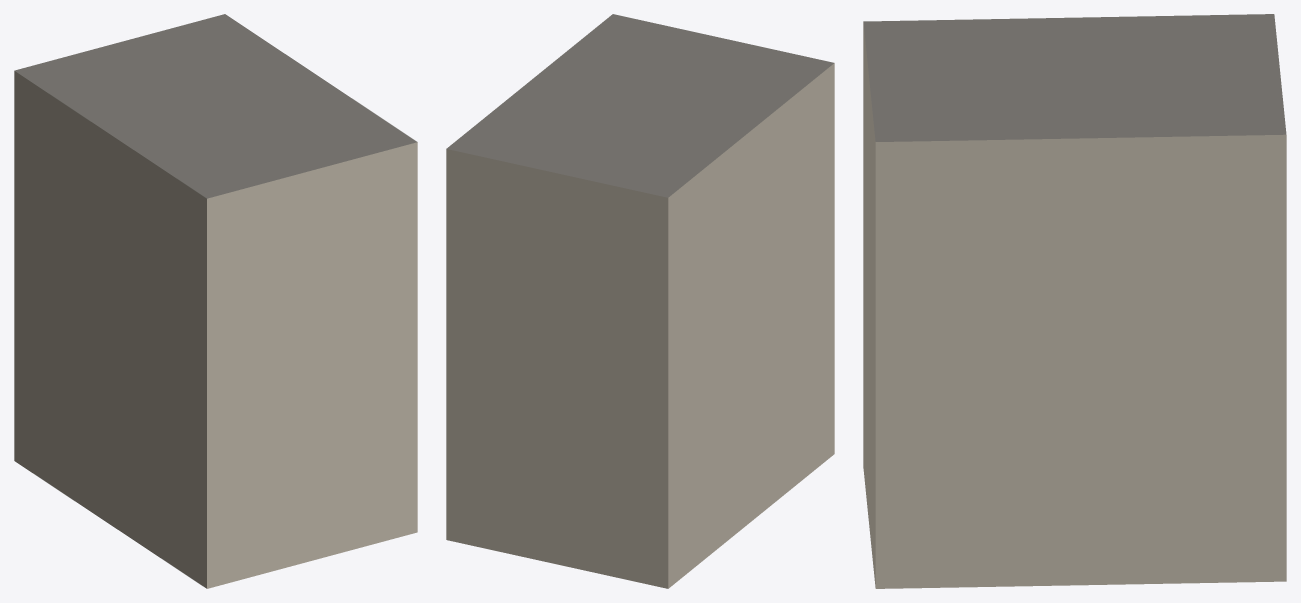
The picture shows the model from 3 angles, left to right: view 1: azimuth 30°, elevation 25°; view 2: azimuth 150°, elevation 25°; view 3: azimuth 270°, elevation 25°; orthographic projection. The views are drawn at different scales.
Parts seen in each view (by area): view 1: HP-w858824352; view 2: HP-w858824352; view 3: HP-w858824352.
Boxes of the visible parts, <box> form: HP-w858824352: <box>14,14,417,588</box>; HP-w858824352: <box>446,14,834,588</box>; HP-w858824352: <box>863,14,1286,588</box>.
Size of the model in its own units: 11.07 by 18 by 15.44.
